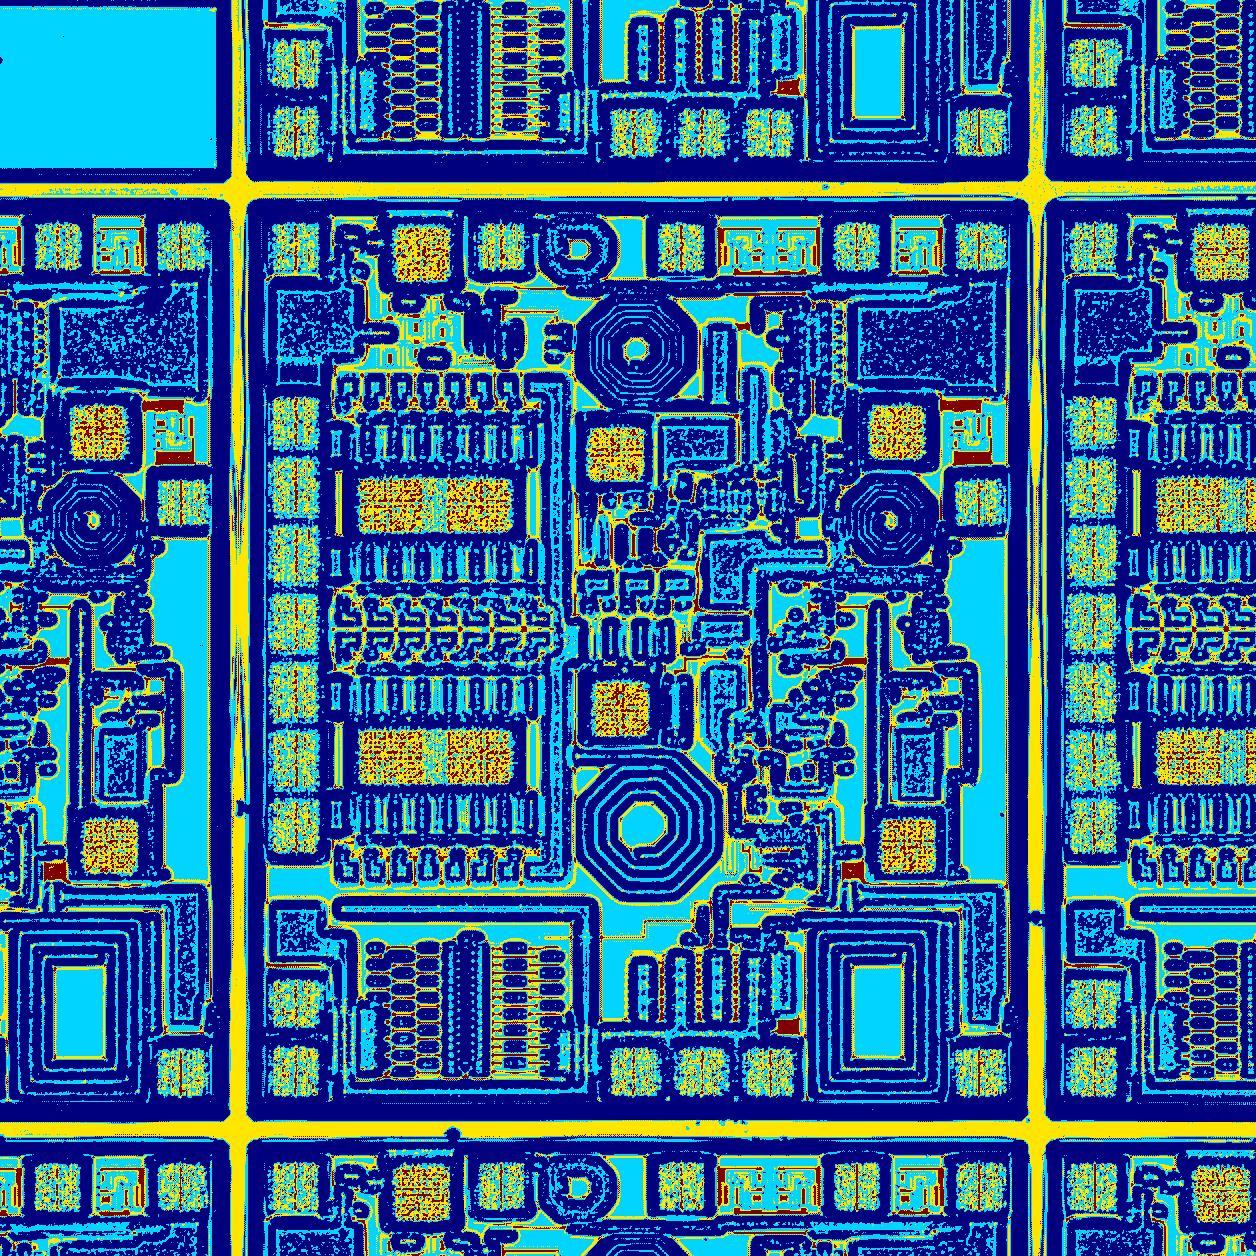Die: (244, 196, 1029, 1121)
Pad 1: (360, 728, 424, 786), (446, 729, 511, 786), (446, 478, 511, 533), (391, 224, 451, 282), (590, 679, 650, 736), (360, 478, 423, 533), (587, 426, 644, 482), (881, 817, 937, 874), (870, 405, 926, 461)
Pad 2: (269, 729, 322, 792), (269, 524, 321, 587), (268, 593, 320, 654), (269, 661, 319, 723), (267, 801, 321, 855), (270, 457, 320, 515), (674, 1046, 729, 1096), (270, 398, 322, 450), (271, 223, 320, 277), (955, 1049, 1008, 1097), (268, 980, 321, 1028), (954, 478, 1008, 526), (611, 1047, 661, 1096), (956, 222, 1008, 270), (743, 1048, 792, 1096), (273, 1047, 320, 1097), (658, 223, 705, 273), (833, 222, 880, 271), (478, 223, 524, 271)
